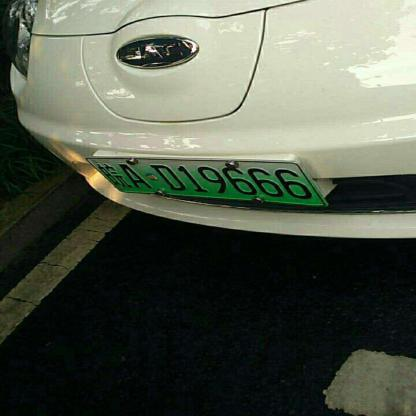lp: (86, 158, 323, 204)
